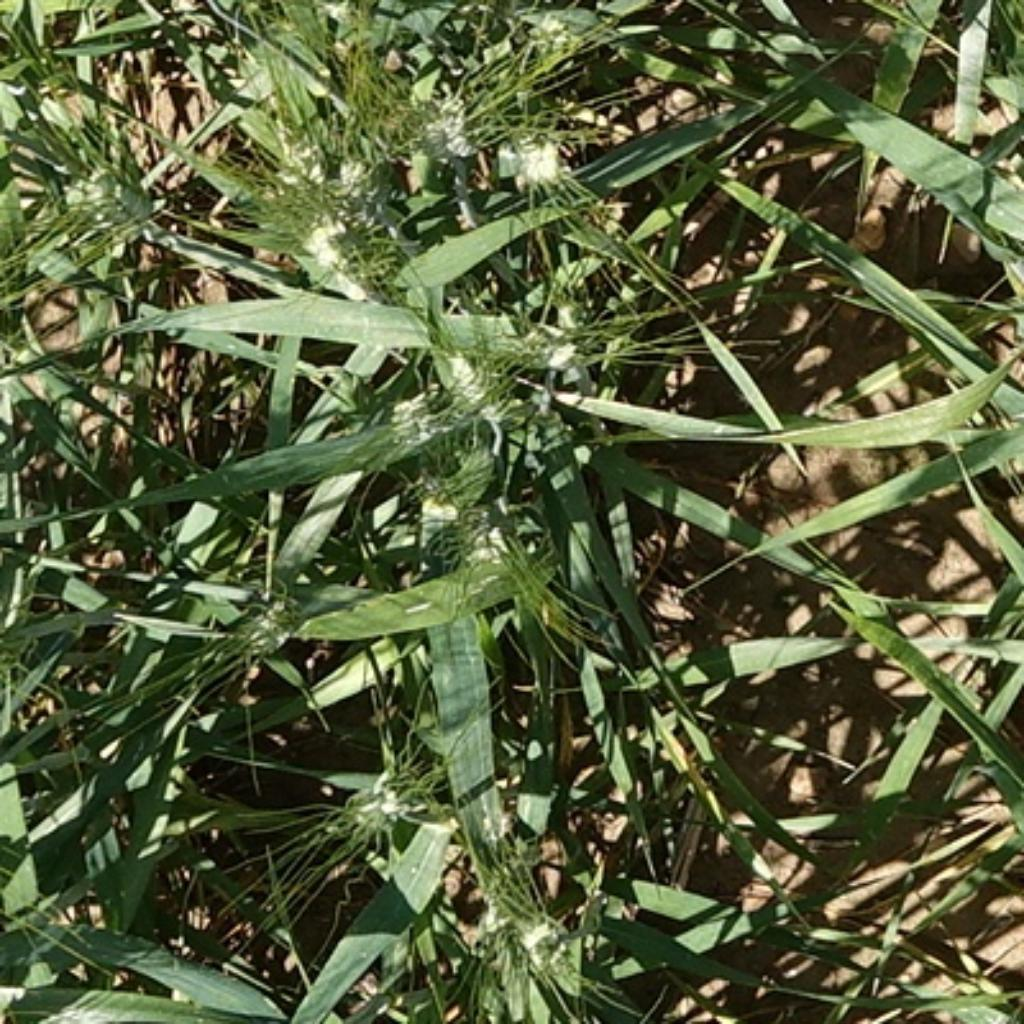0-0: (448, 870, 586, 985), (451, 509, 574, 619), (51, 127, 155, 233), (232, 107, 332, 194), (442, 337, 517, 453), (294, 220, 391, 304), (325, 140, 417, 227), (396, 468, 506, 540), (386, 79, 478, 163), (509, 322, 611, 391), (506, 0, 614, 64), (373, 384, 455, 458), (227, 592, 304, 665), (327, 778, 417, 839), (495, 126, 573, 189)
